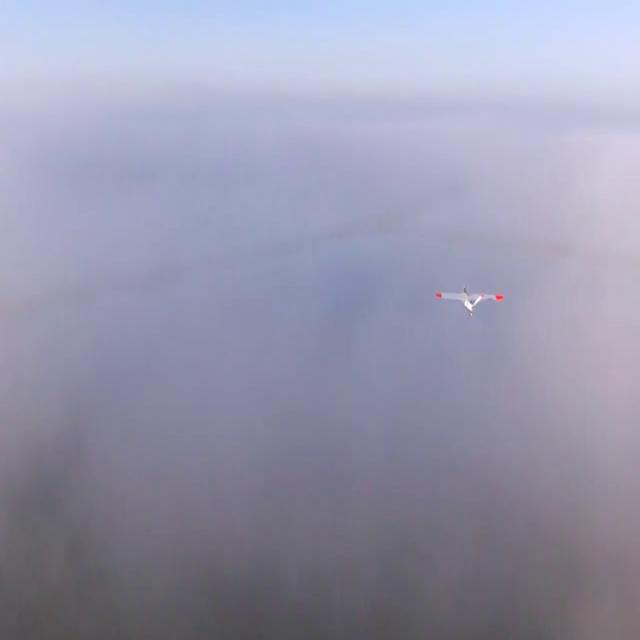iha: (467, 282, 472, 328)
